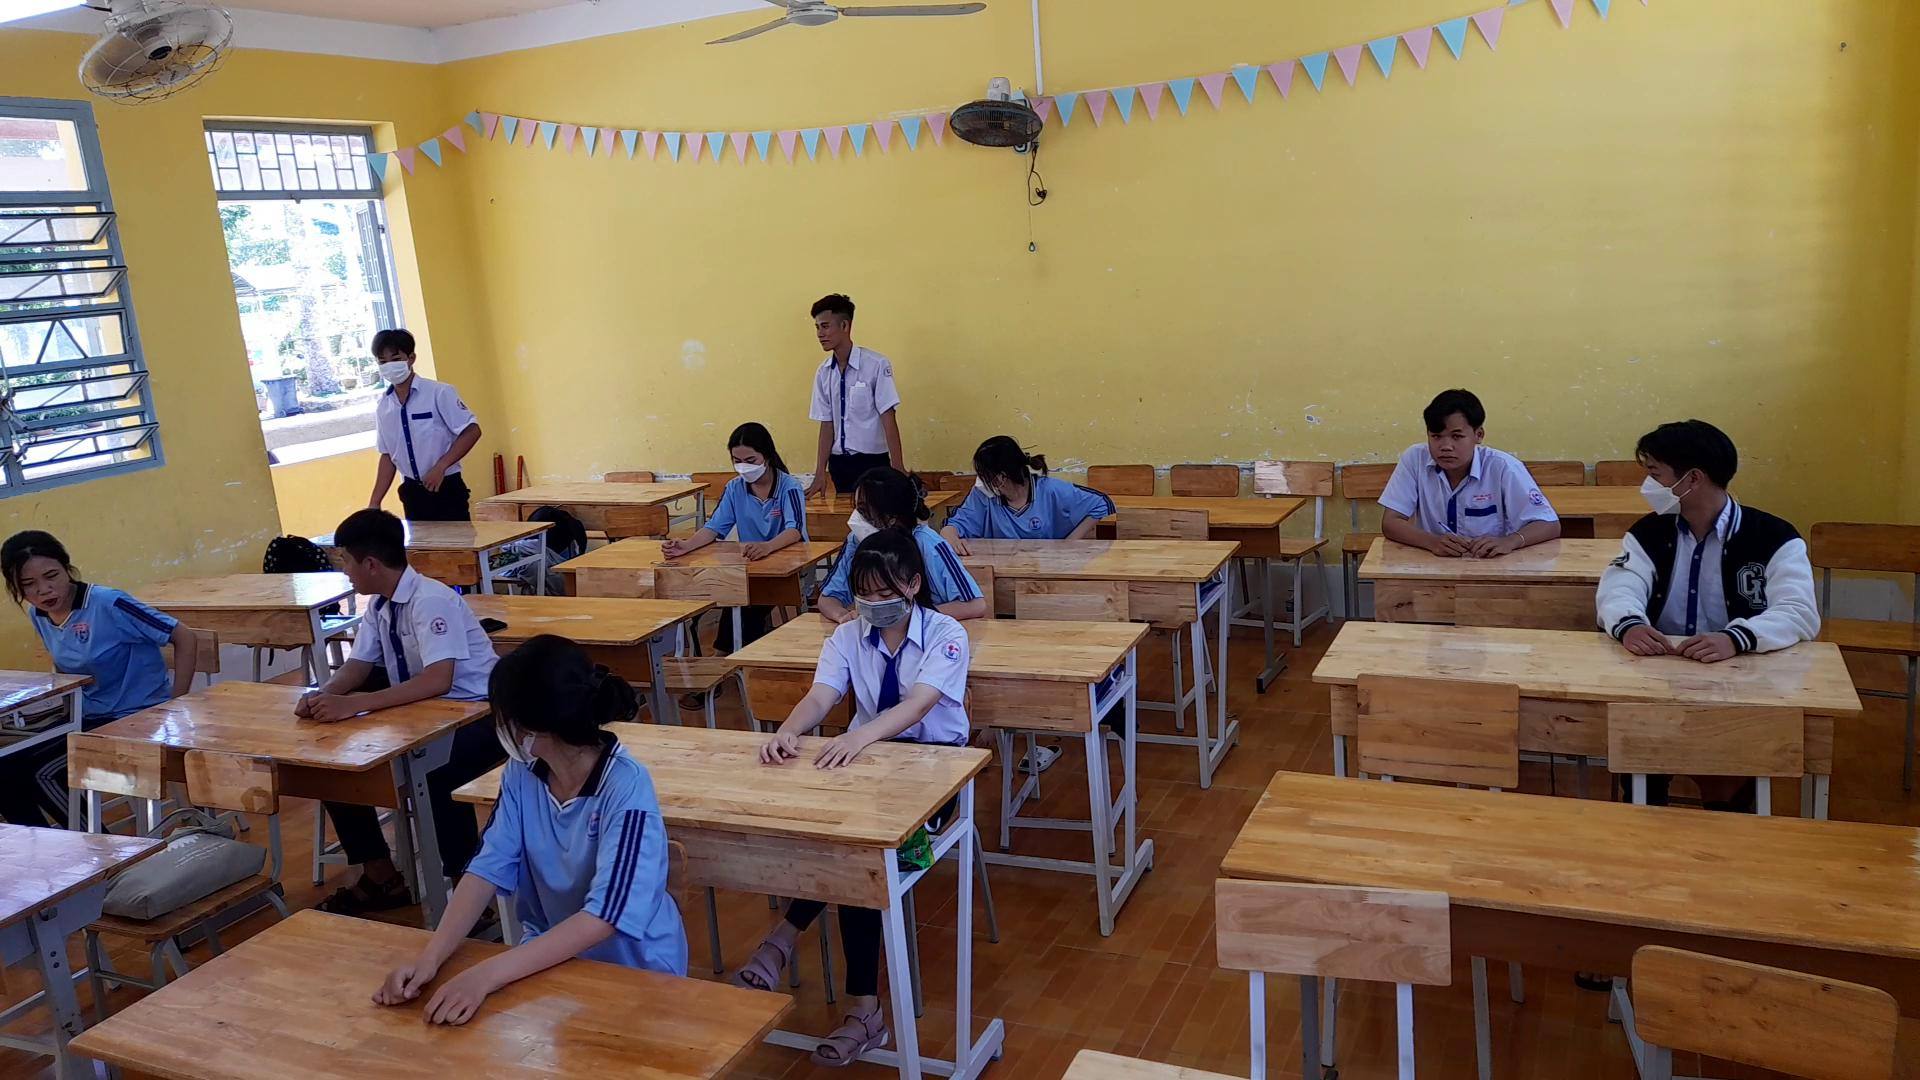Look Around: (467, 632, 634, 779), (1618, 413, 1746, 535), (0, 509, 86, 636), (318, 500, 423, 596), (957, 415, 1062, 512)
Normal: (761, 524, 972, 764), (1362, 385, 1557, 566), (657, 411, 814, 570)
Stand Up: (351, 323, 479, 505), (798, 281, 909, 458)
